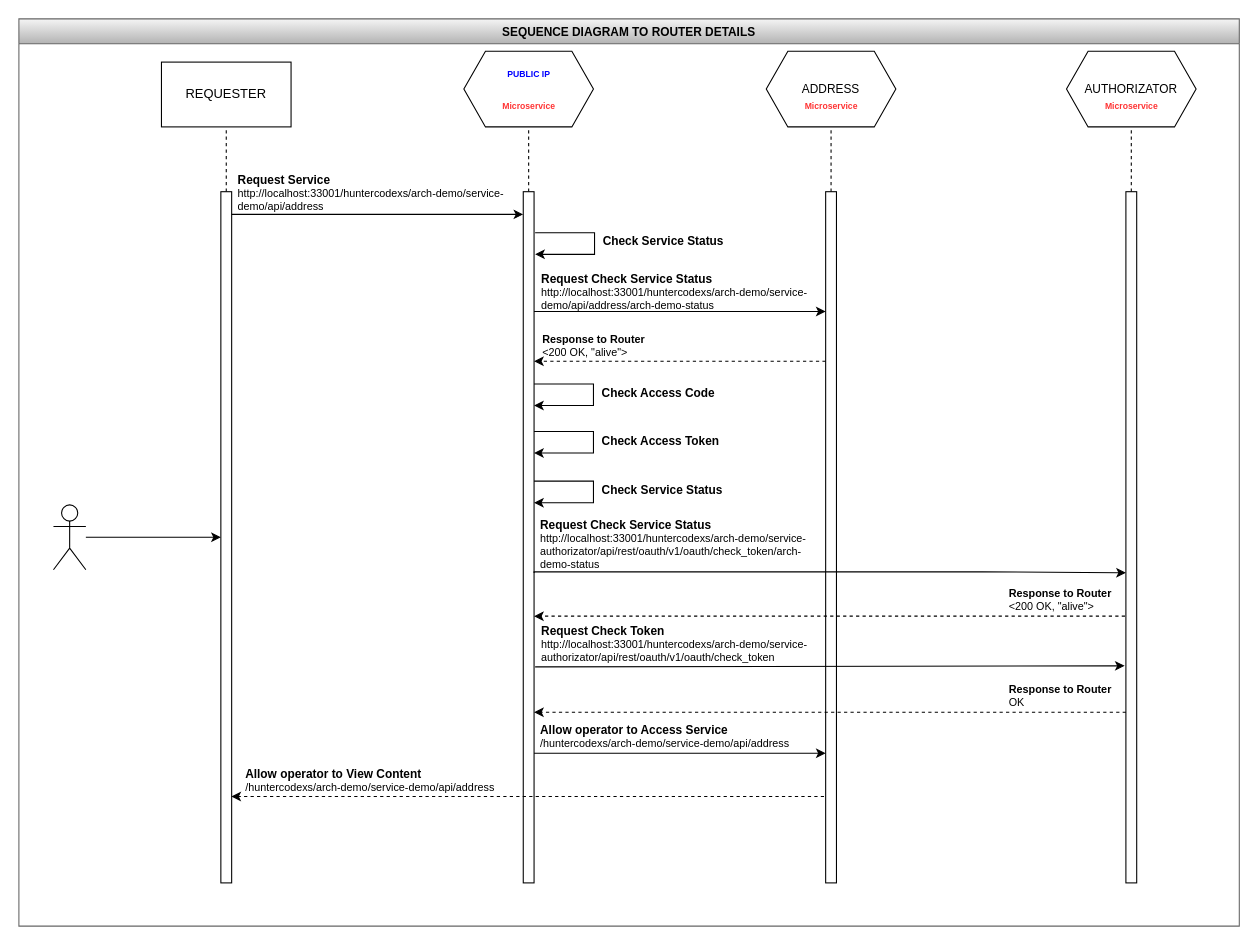
This 1258x945 diagram has some shape labels left out. The shapes that lost their labels are listed below. From the top down, each one's box as (x1, y1, x2, y2) in pixels, then its label:
(463, 50, 593, 127): ROUTER
(52, 504, 86, 570): OPERATOR
